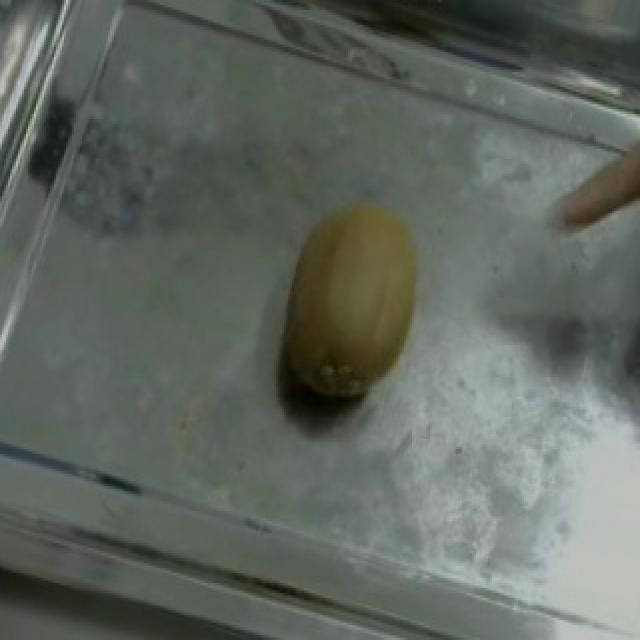Fruit: (244, 169, 462, 439)
